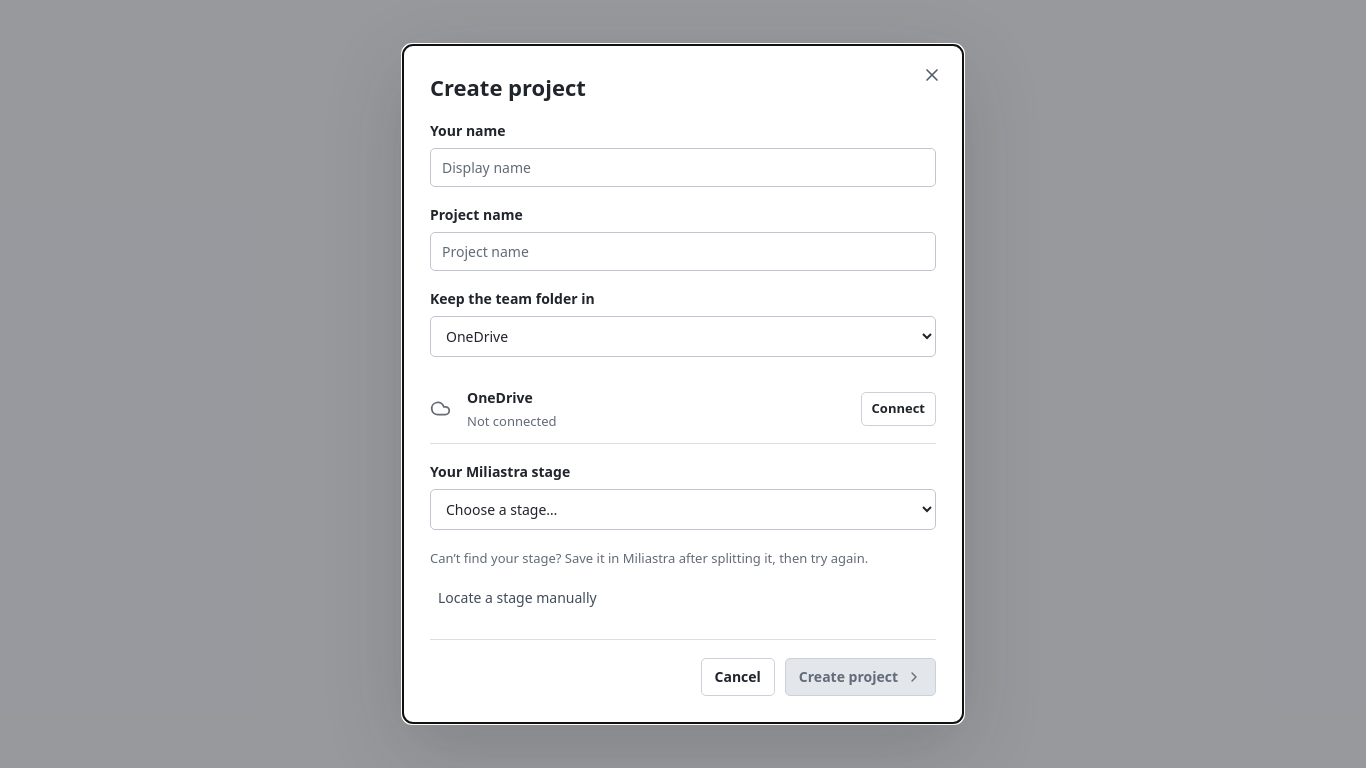
Test: offers only the cloud providers this build supports when creating a project
This screenshot has width=1366, height=768.
Expected: the button with aria-label "Connect OneDrive" is shown, [861, 392, 936, 426]
Select "Shared folder (advanced)" in the dropdown labelled "Keep the team folder in" at (683, 336), box [430, 316, 936, 357]
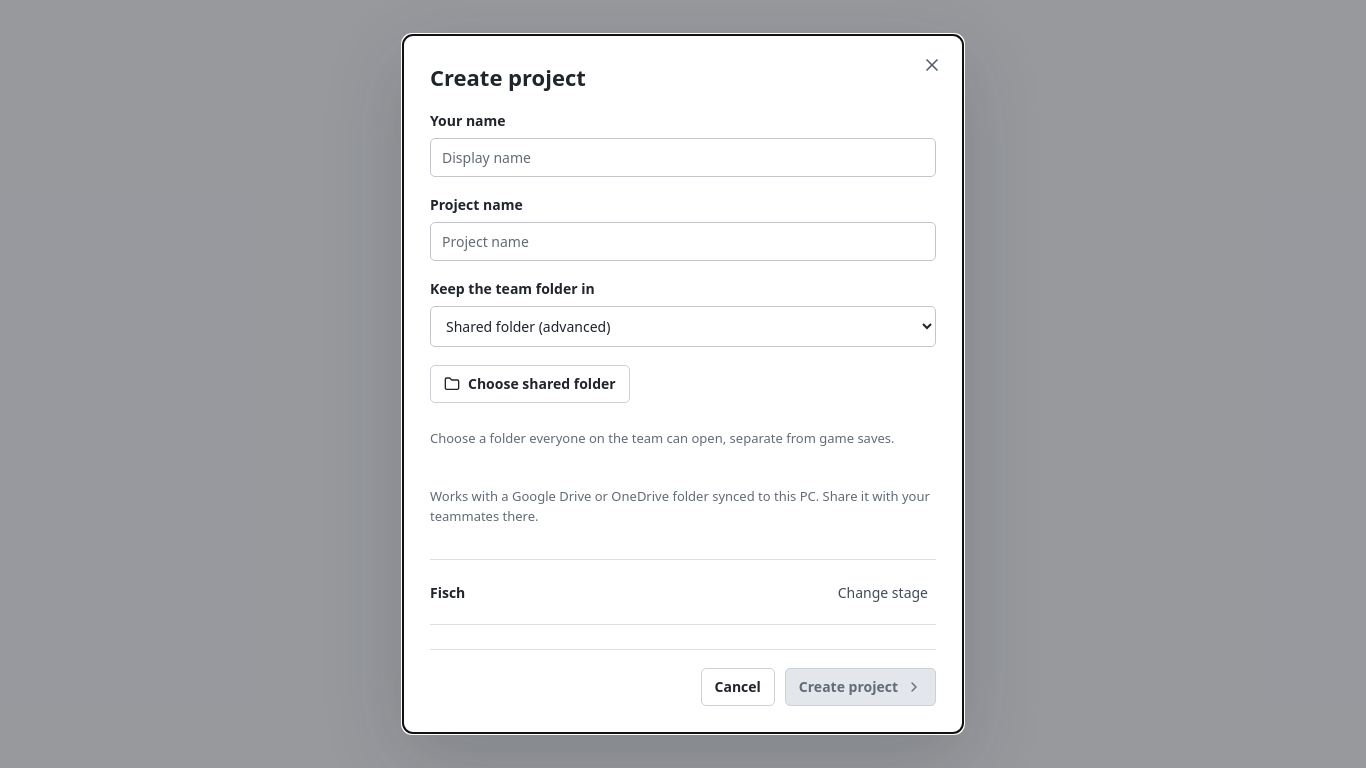
Expected: the button "Choose shared folder" is shown, [430, 365, 630, 403]
